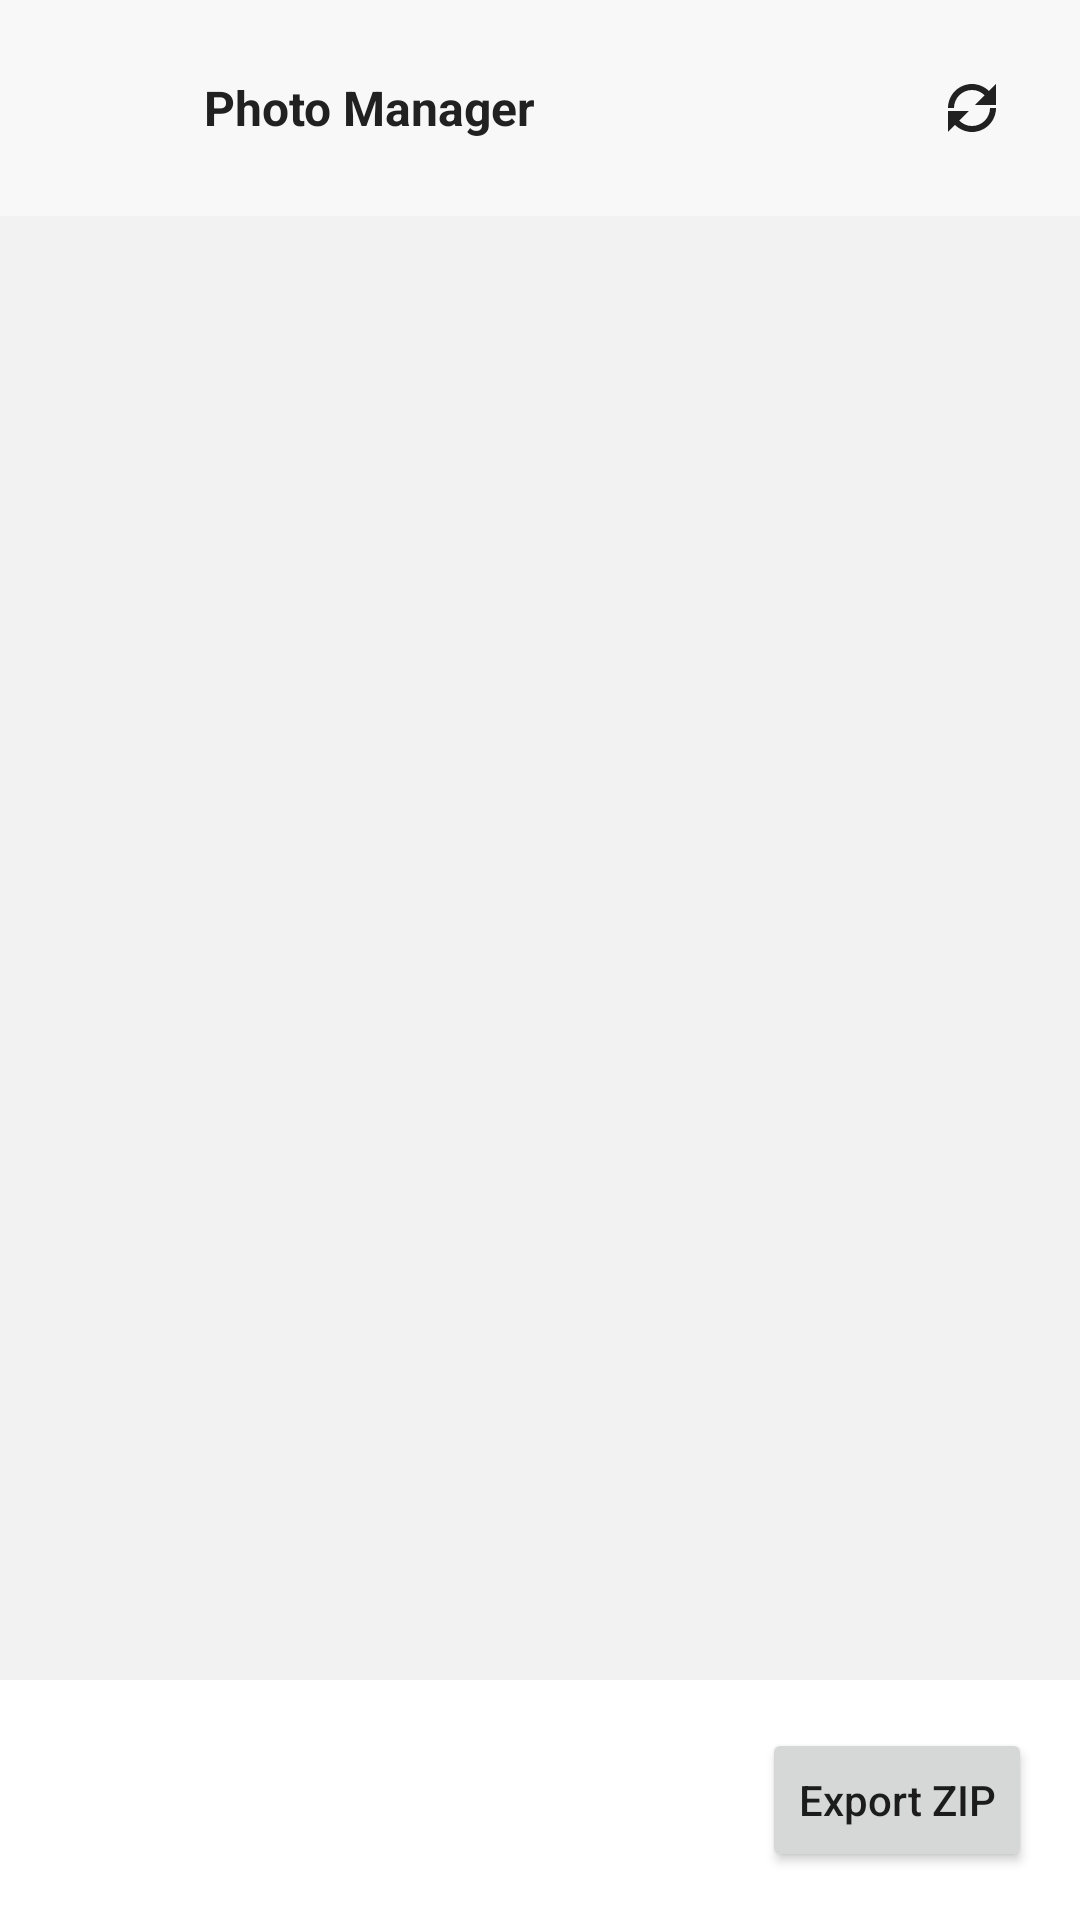

Icon click points for this 1080 x 1920 phone screenshot, format (x=x, y=y):
Refresh: (x=972, y=108)
